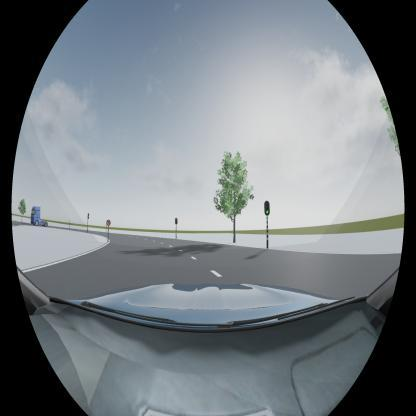Green Light: (264, 201, 270, 216)
Red Light: (175, 218, 178, 224)
